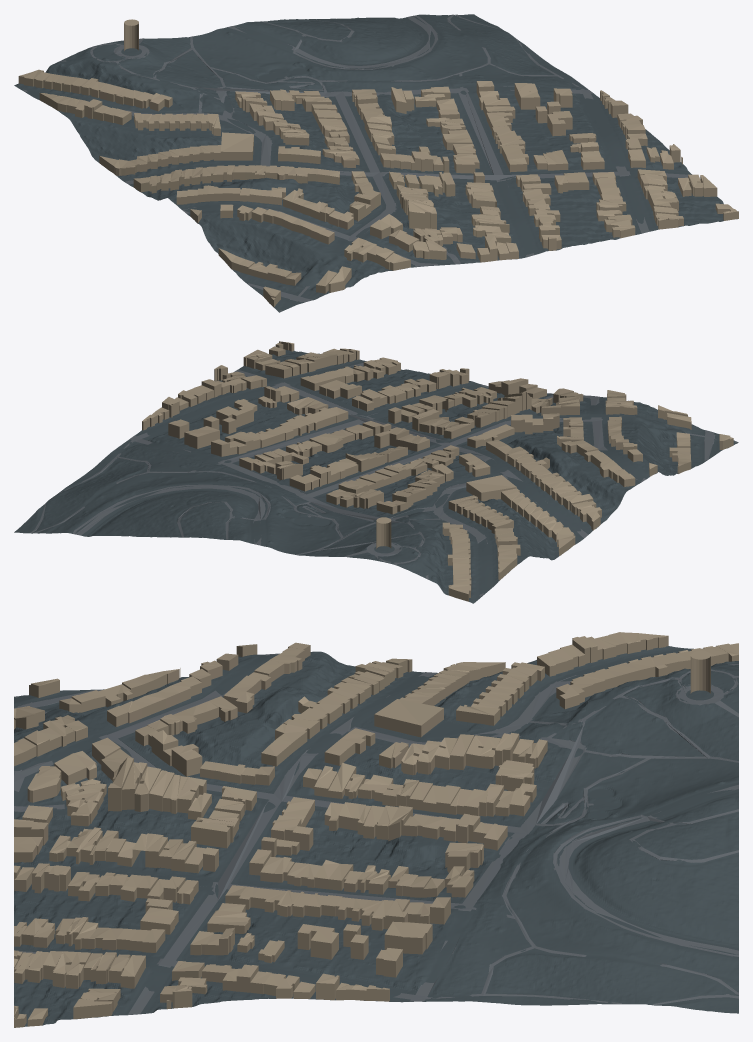
Rendered from epsg26910-1434-10873.lod0.glb.
3 views of the same model, one above another, from view 1: azimuth 30°, elevation 25°; view 2: azimuth 150°, elevation 25°; view 3: azimuth 270°, elevation 25° (orthographic). The views are drawn at different scales.
Parts seen in each view (by area): view 1: epsg26910-1434-10873-lod0; view 2: epsg26910-1434-10873-lod0; view 3: epsg26910-1434-10873-lod0.
Part boxes in pixels (x1,y1,x2,y2): epsg26910-1434-10873-lod0: (14, 14, 738, 312); epsg26910-1434-10873-lod0: (14, 341, 738, 603); epsg26910-1434-10873-lod0: (14, 632, 738, 1027).
Size of the model in its own units: 384 by 79.11 by 384.
